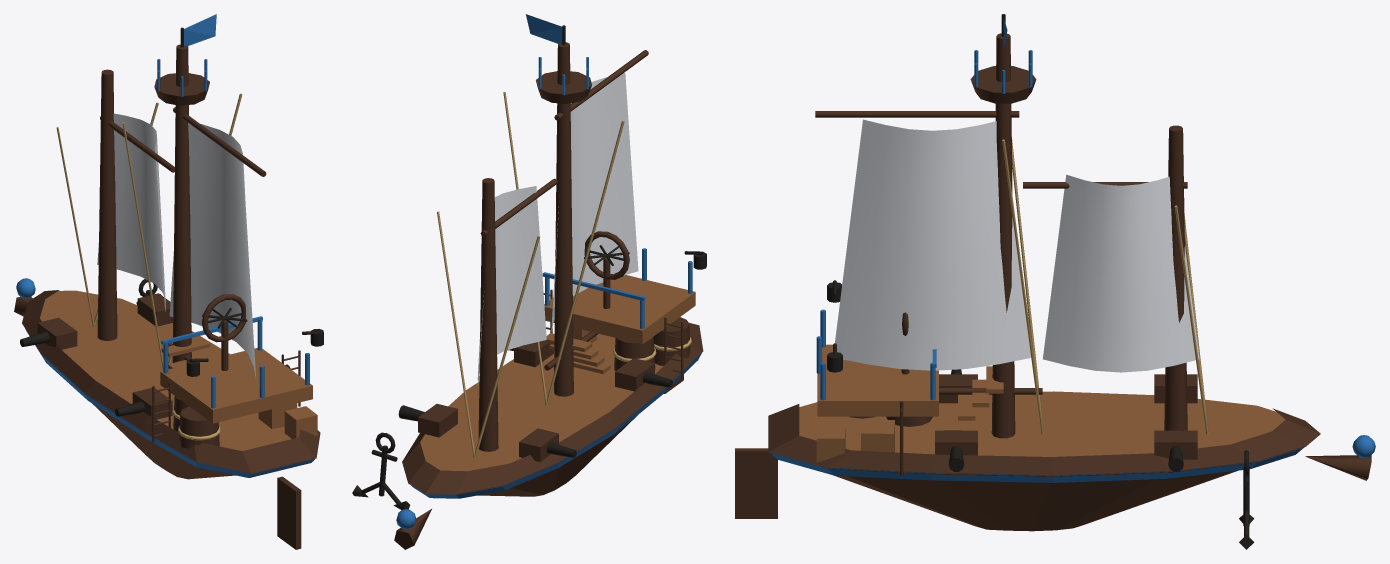
File: pirate-fleet-standard-l2.glb
3 renders of one model, left to right at view 1: azimuth 30°, elevation 25°; view 2: azimuth 150°, elevation 25°; view 3: azimuth 270°, elevation 25°, orthographic. The views are drawn at different scales.
Parts seen in each view (by area): view 1: sail_mainSail, deck_mainDeck, hull_hullShell, sail_foreSail, quarterdeck_platform, mast_mainMast, mast_foreMast, cannon_carriage (×3), rudder_blade, hull_trimBand, cargo_crate (×2), crowsnest_platform (+7 smaller); view 2: deck_mainDeck, sail_mainSail, hull_hullShell, sail_foreSail, quarterdeck_platform, mast_mainMast, mast_foreMast, cannon_carriage (×4), rope_shroud (×4), cargo_barrel (×2), hull_trimBand, crowsnest_platform (+6 smaller); view 3: sail_mainSail, sail_foreSail, hull_hullShell, deck_mainDeck, quarterdeck_platform, mast_mainMast, hull_trimBand, mast_foreMast, rudder_blade, rope_shroud (×3), cannon_carriage (×2), cargo_crate (×2) (+3 smaller).
Part boxes in pixels (x1,y1,x2,y2): sail_mainSail: [169, 123, 255, 377]; deck_mainDeck: [40, 290, 291, 450]; hull_hullShell: [22, 290, 320, 479]; sail_foreSail: [97, 113, 165, 311]; quarterdeck_platform: [160, 348, 312, 423]; mast_mainMast: [172, 44, 191, 362]; mast_foreMast: [97, 69, 117, 340]; cannon_carriage (×3): [37, 293, 173, 419]; rudder_blade: [277, 476, 301, 549]; hull_trimBand: [25, 329, 315, 477]; cargo_crate (×2): [258, 403, 317, 438]; crowsnest_platform: [154, 73, 209, 105]; deck_mainDeck: [420, 334, 663, 471]; sail_mainSail: [551, 73, 638, 334]; hull_hullShell: [402, 323, 703, 496]; sail_foreSail: [477, 186, 546, 388]; quarterdeck_platform: [544, 275, 695, 344]; mast_mainMast: [554, 42, 573, 396]; mast_foreMast: [478, 178, 498, 451]; cannon_carriage (×4): [418, 341, 654, 461]; rope_shroud (×4): [437, 92, 624, 457]; cargo_barrel (×2): [614, 317, 690, 370]; hull_trimBand: [411, 351, 702, 498]; crowsnest_platform: [536, 71, 591, 103]; sail_mainSail: [835, 119, 1031, 370]; sail_foreSail: [1043, 174, 1199, 372]; hull_hullShell: [768, 404, 1320, 531]; deck_mainDeck: [799, 391, 1285, 456]; quarterdeck_platform: [817, 344, 938, 416]; mast_mainMast: [991, 33, 1015, 438]; hull_trimBand: [769, 446, 1304, 482]; mast_foreMast: [1164, 125, 1187, 430]; rudder_blade: [735, 448, 777, 518]; rope_shroud (×3): [1002, 137, 1208, 434]; cannon_carriage (×2): [935, 430, 1197, 459]; cargo_crate (×2): [816, 419, 894, 462].
Size of the model in its own units: 4.48 by 10.12 by 11.44.
